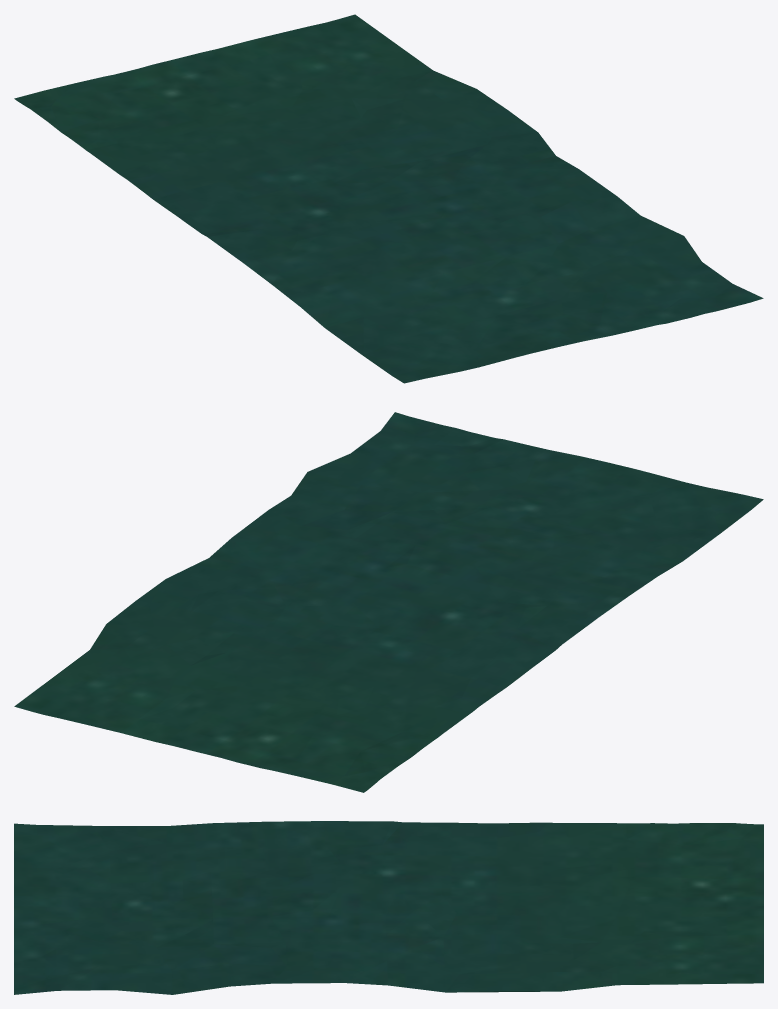
The picture shows the model from 3 angles, top to bottom: view 1: azimuth 30°, elevation 25°; view 2: azimuth 150°, elevation 25°; view 3: azimuth 270°, elevation 25°; orthographic projection. The views are drawn at different scales.
Bounding box in the file's own units: 28.02 × 0.6362 × 52.22.
Materials: 1 (1 with a texture image).
